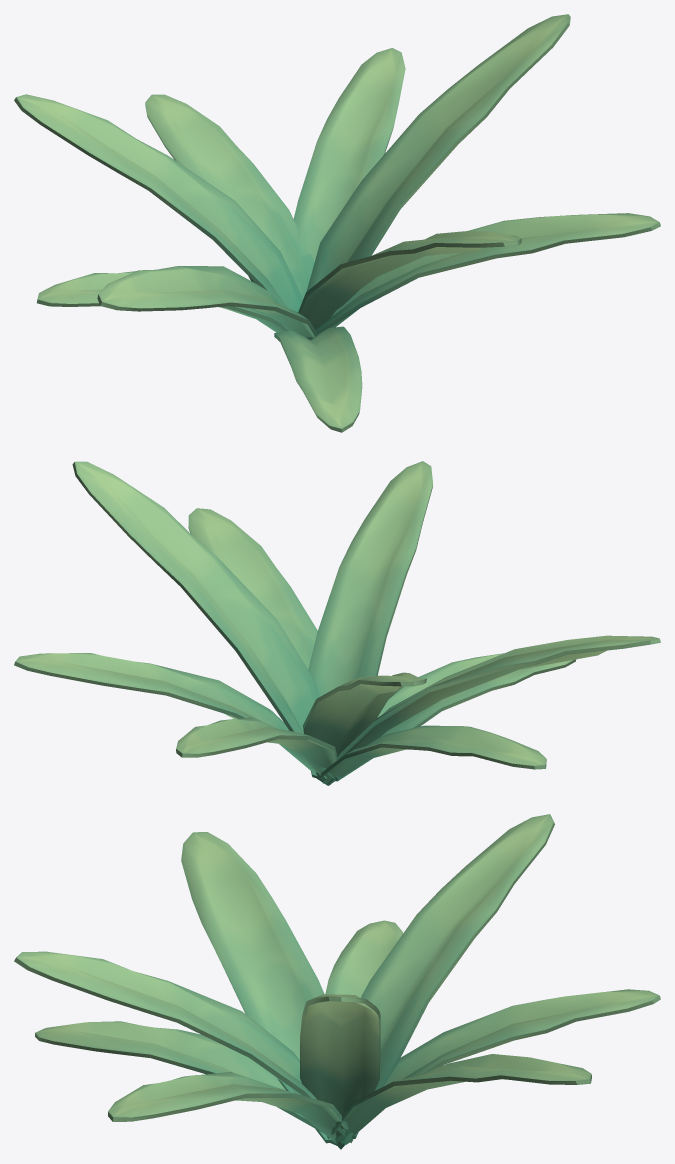
The model's file is plant1.fbx.
3 renders of one model, top to bottom at view 1: azimuth 30°, elevation 25°; view 2: azimuth 150°, elevation 25°; view 3: azimuth 270°, elevation 25°, orthographic. The views are drawn at different scales.
Parts seen in each view (by area): view 1: pPlane283, pPlane285, pPlane287, pPlane289, pPlane288, pPlane286, pPlane290, pPlane284, pPlane291; view 2: pPlane283, pPlane284, pPlane287, pPlane288, pPlane286, pPlane291, pPlane285, pPlane289, pPlane290; view 3: pPlane286, pPlane285, pPlane284, pPlane283, pPlane289, pPlane290, pPlane288, pPlane287, pPlane291.
Part boxes in pixels (x1,y1,x2,y2): pPlane283: (306,14,570,316); pPlane285: (14,94,303,312); pPlane287: (293,48,405,295); pPlane289: (145,94,314,298); pPlane288: (306,213,660,340); pPlane286: (97,266,317,337); pPlane290: (274,326,362,432); pPlane284: (298,231,521,328); pPlane291: (37,271,287,332); pPlane283: (72,461,327,783); pPlane284: (308,461,433,785); pPlane287: (14,653,335,779); pPlane288: (188,508,318,775); pPlane286: (337,635,660,759); pPlane291: (317,725,546,785); pPlane285: (303,672,426,772); pPlane289: (176,717,337,782); pPlane290: (329,653,576,785); pPlane286: (181,832,336,1145); pPlane285: (340,814,554,1144); pPlane284: (14,951,353,1145); pPlane283: (300,994,380,1149); pPlane289: (335,989,660,1143); pPlane290: (35,1021,335,1139); pPlane288: (108,1072,353,1143); pPlane287: (327,1054,591,1138); pPlane291: (325,920,402,1138).
Bounding box in the file's own units: 3.08 × 1.48 × 3.05.
